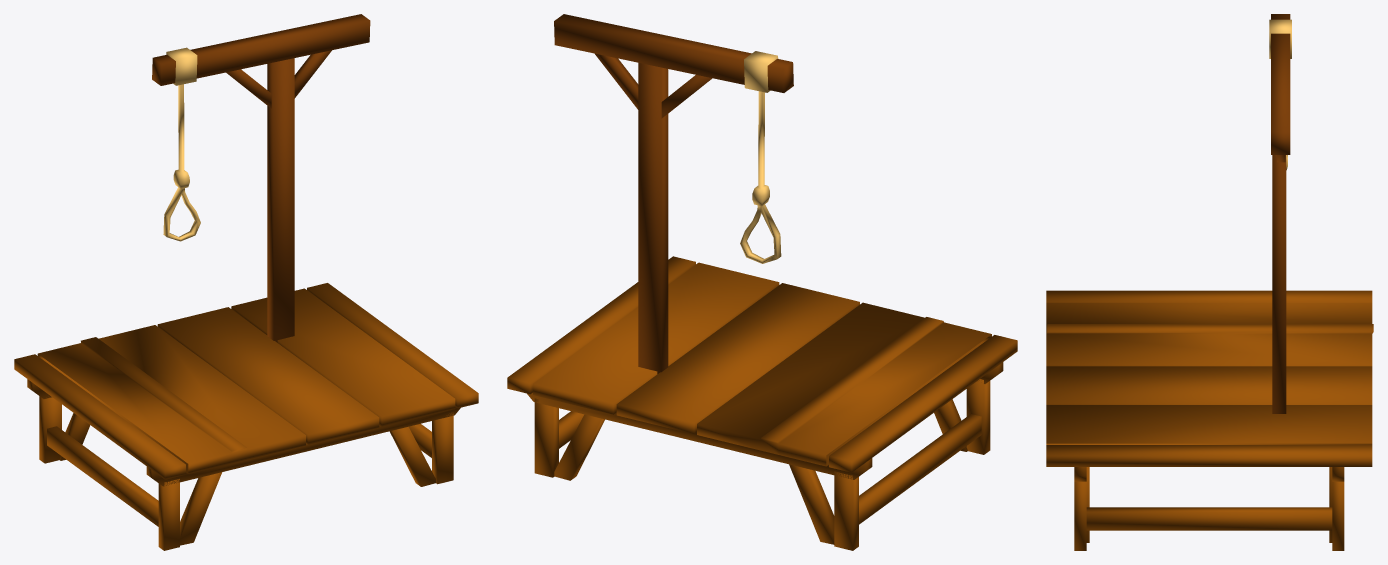
Rendered from Western_Gibbet.fbx.
The picture shows the model from 3 angles, left to right: view 1: azimuth 30°, elevation 25°; view 2: azimuth 150°, elevation 25°; view 3: azimuth 270°, elevation 25°; orthographic projection. The views are drawn at different scales.
Visible parts, largest first — view 1: Western_Gibbet; view 2: Western_Gibbet; view 3: Western_Gibbet.
Part boxes in pixels (left/top/right/bottom): Western_Gibbet: left=14, top=14, right=478, bottom=550; Western_Gibbet: left=507, top=14, right=1017, bottom=550; Western_Gibbet: left=1046, top=14, right=1373, bottom=550.
Size of the model in its own units: 343 by 419 by 287.
1 material, 1 textured.
